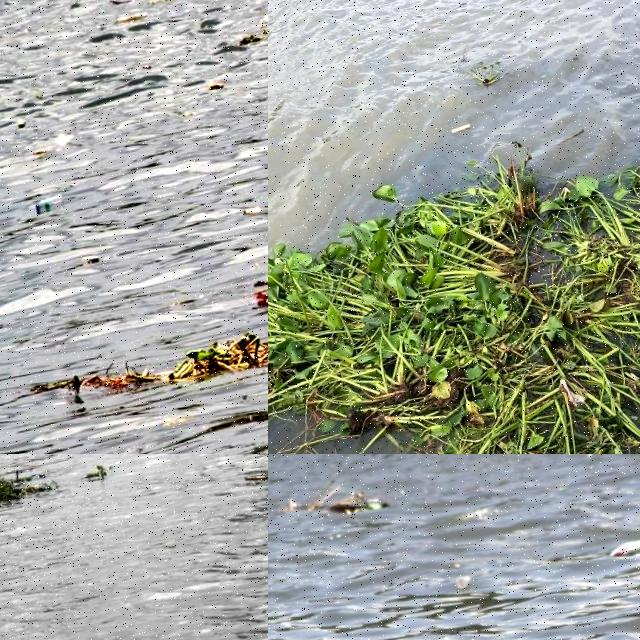water-hyacinth: (269, 113, 640, 455), (1, 455, 136, 547), (168, 305, 269, 384), (460, 51, 515, 96)
